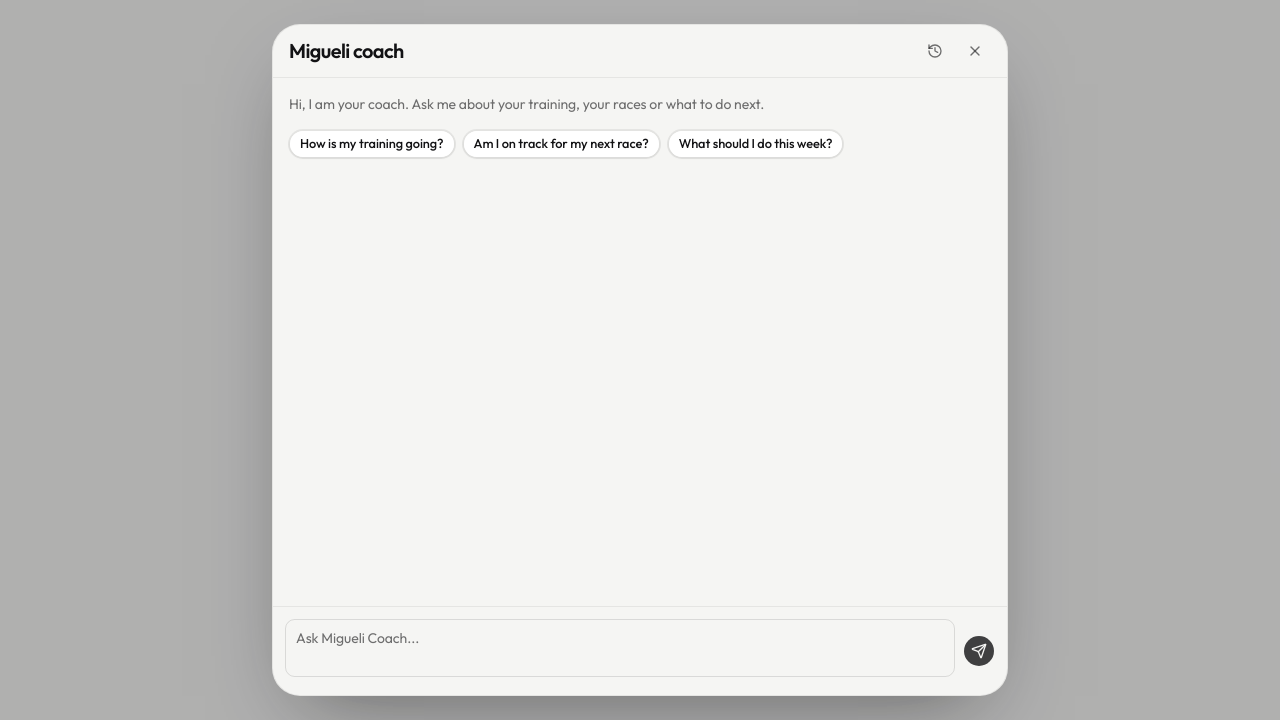
Test: CoachChatView › keeps the panel mounted while it slides out, then removes it
The width and height of the screenshot is (1280, 720).
Click the button with test id "coach-close" at (975, 51), box [959,35,991,67]
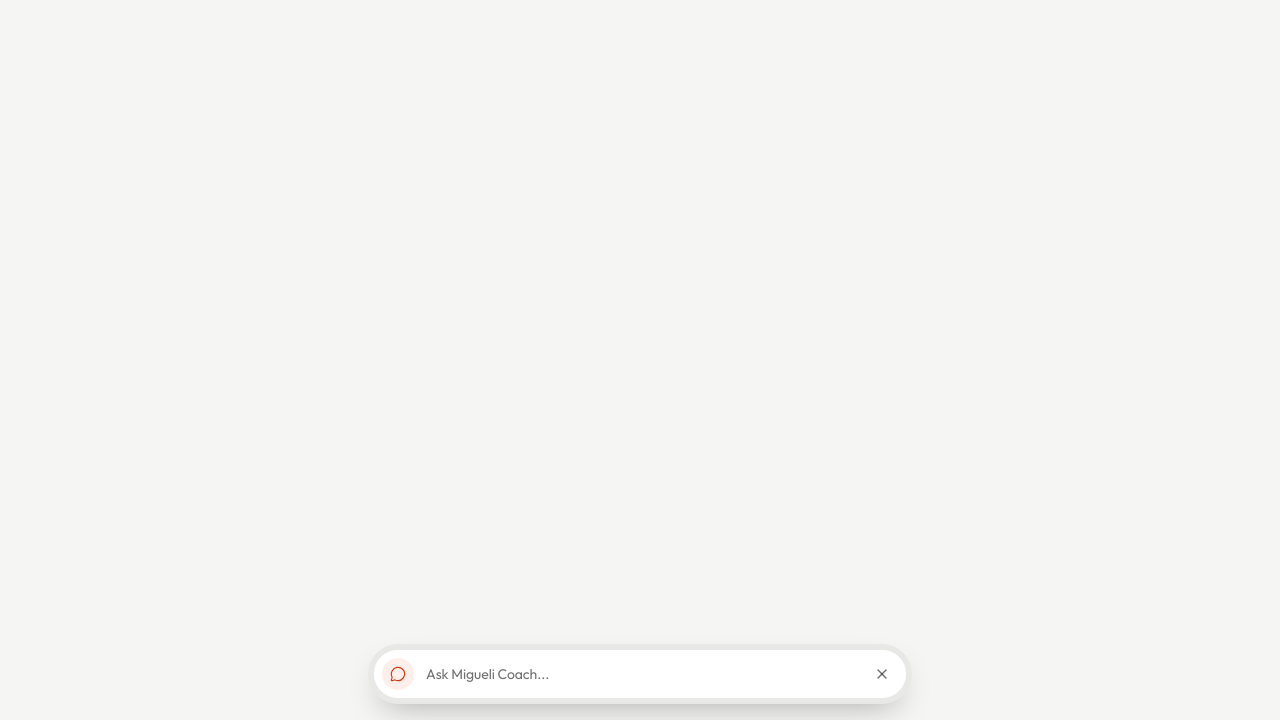
Check: the button with test id "coach-launcher" is shown, box [374,650,866,698]
